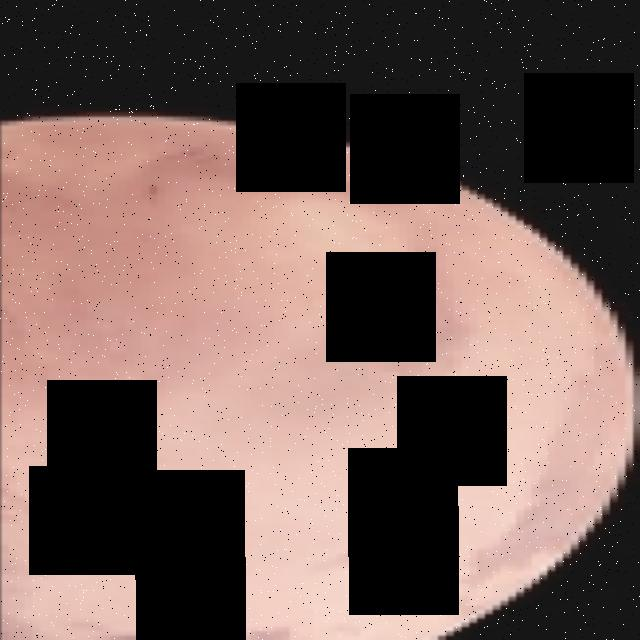Mars: (0, 117, 640, 640)
